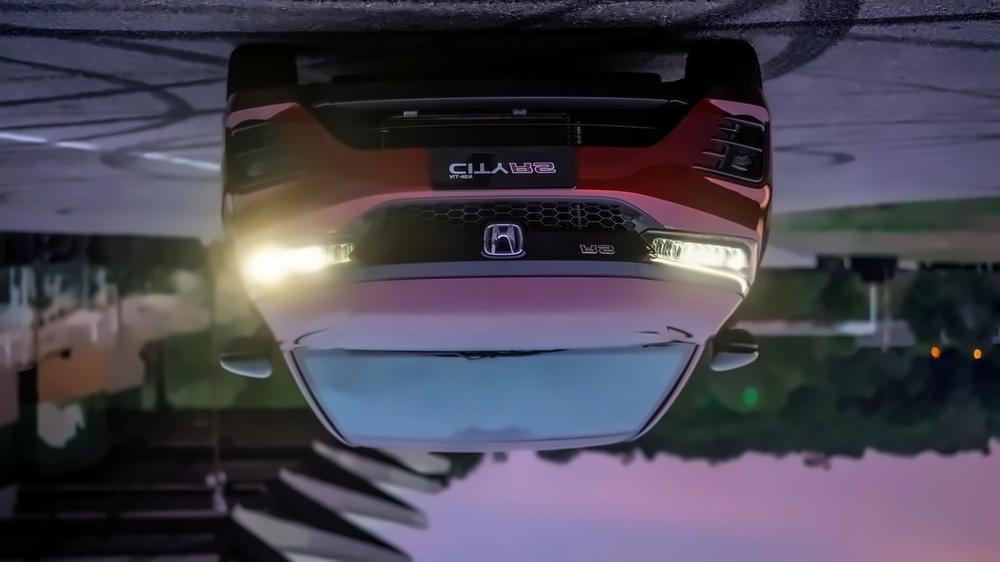Car hood: (253, 272, 744, 353)
Front bumper: (216, 76, 777, 247)
Headlight - -L-: (233, 232, 368, 307)
Headlight - -R-: (642, 227, 763, 297)
Side mirror - -L-: (219, 336, 284, 379)
Side mirror - -R-: (705, 323, 761, 376)
